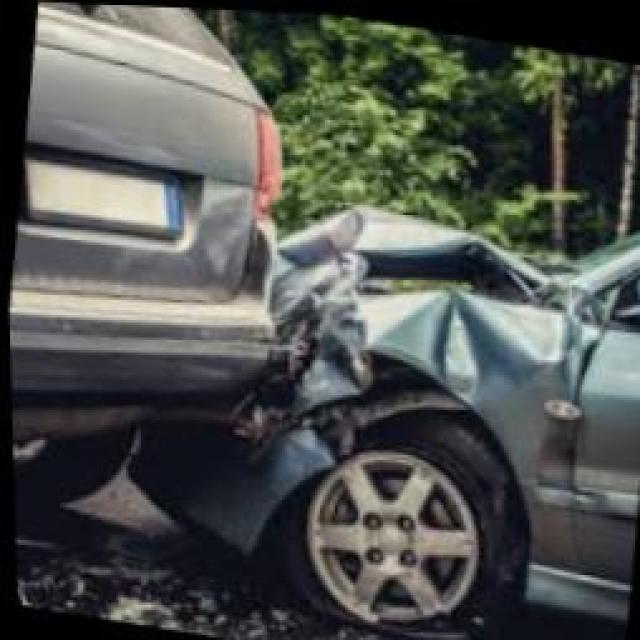Bonnet: (287, 190, 527, 311)
Fender: (350, 275, 572, 485)
